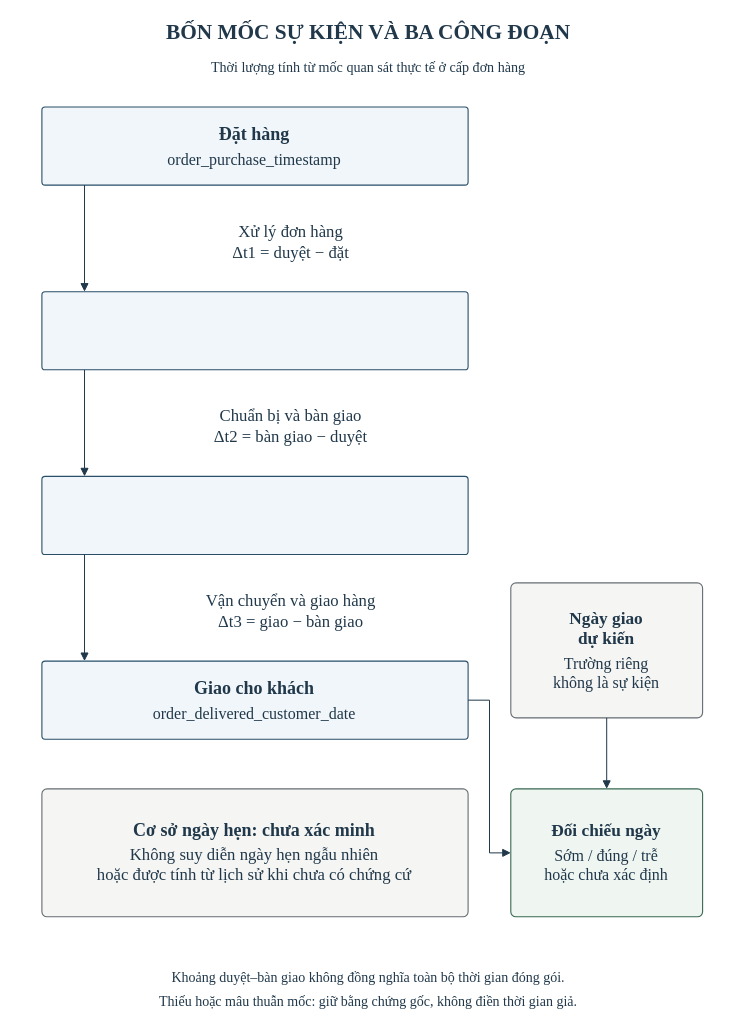
The diagram is 737 pixels wide and 1030 high, and some of its shapes have lost their labels. The shapes that lost their labels are listed below. From the top down, each one's box as (x1, y1, x2, y2) in pixels, then its label:
(41, 291, 468, 370): Duyệt đơn order_approved_at
(41, 475, 468, 555): Bàn giao cho vận chuyển order_delivered_carrier_date
